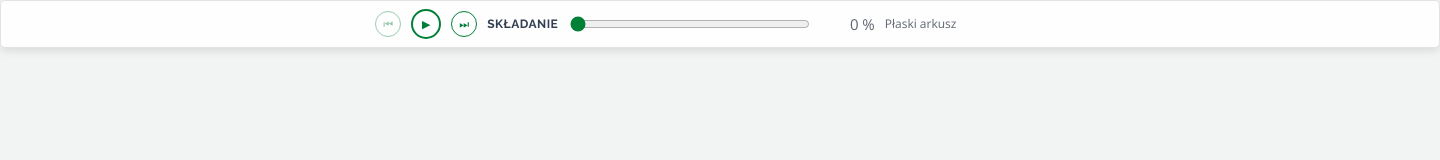
FoldSlider (timeline) › names the current stage (sheet, assembly phases, fold)
Expected: the text "Płaski arkusz" is shown, top-left (885, 15), bottom-right (956, 32)
Set the slider to "10": x=601, y=24 top-left (570, 16), bottom-right (810, 32)
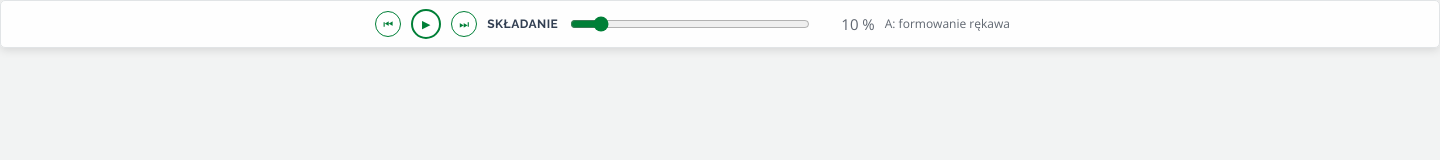
Result: the text "A: formowanie rękawa" is shown at top-left (885, 15), bottom-right (1010, 32)
Set the slider to "34": x=654, y=24 top-left (570, 16), bottom-right (810, 32)
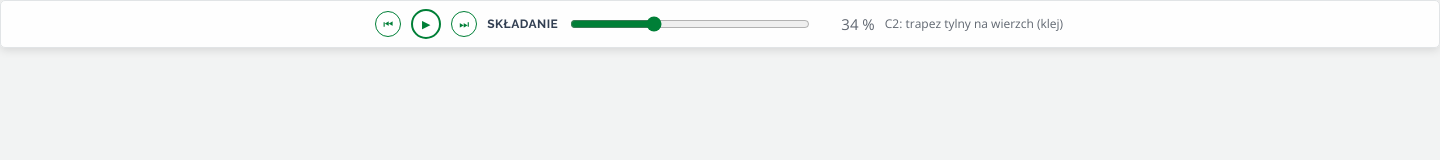
Result: the text "C2: trapez tylny na wierzch (klej)" is shown at top-left (885, 15), bottom-right (1065, 33)
Set the slider to "70": x=735, y=24 top-left (570, 16), bottom-right (810, 32)
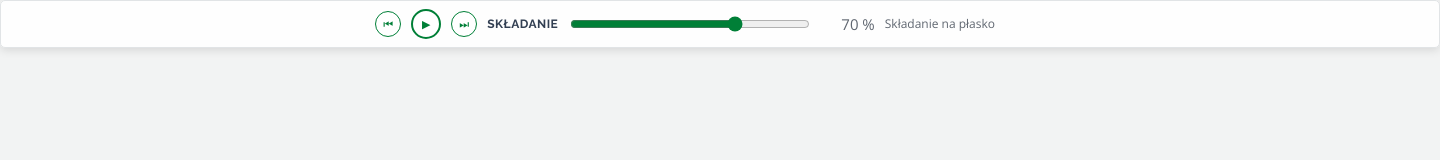
Result: the text "Składanie na płasko" is shown at top-left (885, 15), bottom-right (995, 32)
